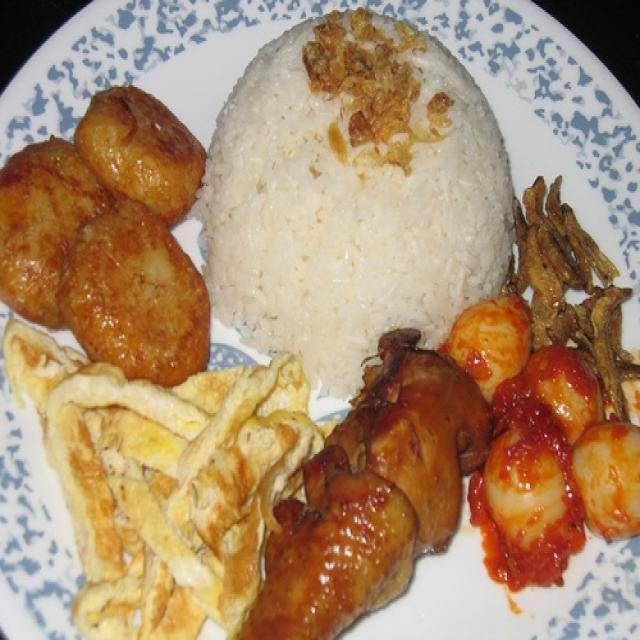米饭主食: (26, 20, 626, 618)
